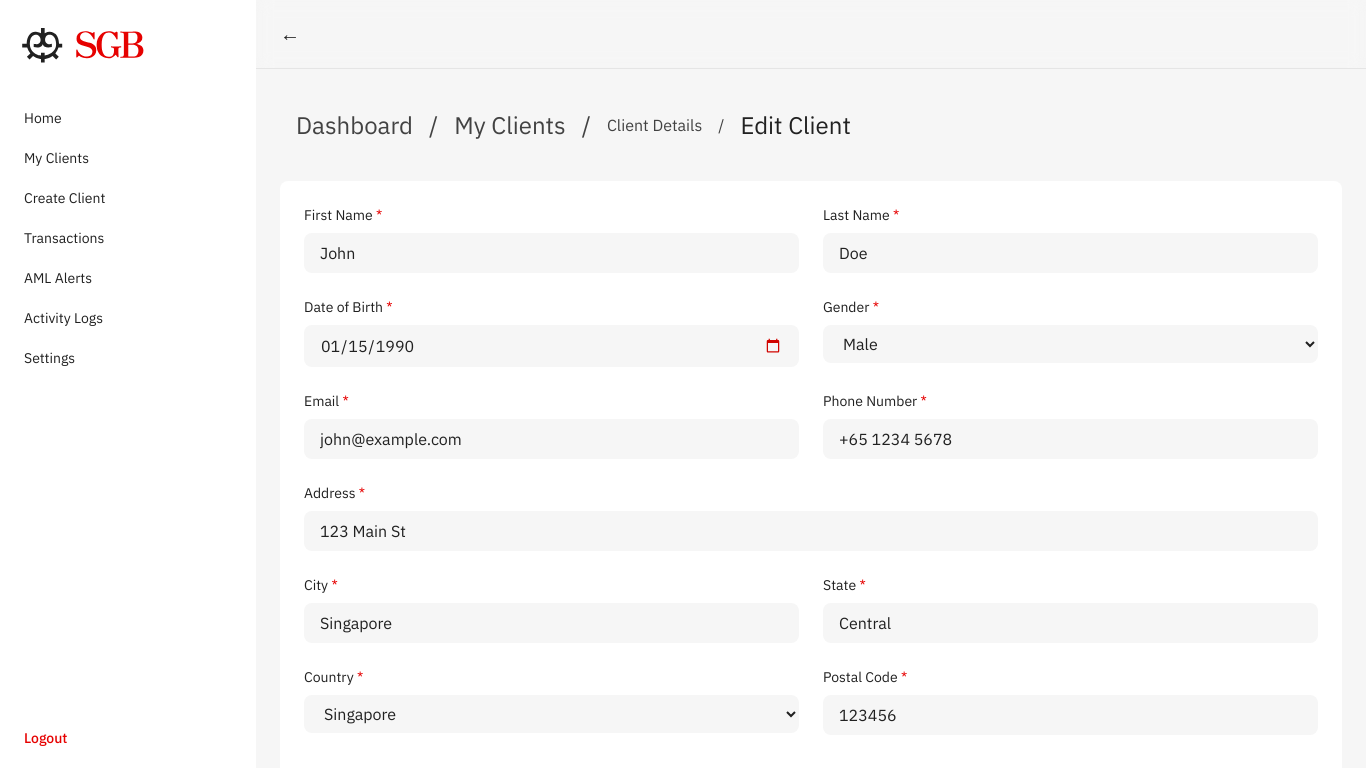
Test: UserEditClient › should show validation error when postal code does not match selected country
The width and height of the screenshot is (1366, 768).
Expected: the field showing "123456" below "Postal Code" is shown, x1=823 y1=695 x2=1318 y2=735
Select "Singapore" in the dropdown named "country" below "Country": (552, 714) x1=304 y1=695 x2=799 y2=733
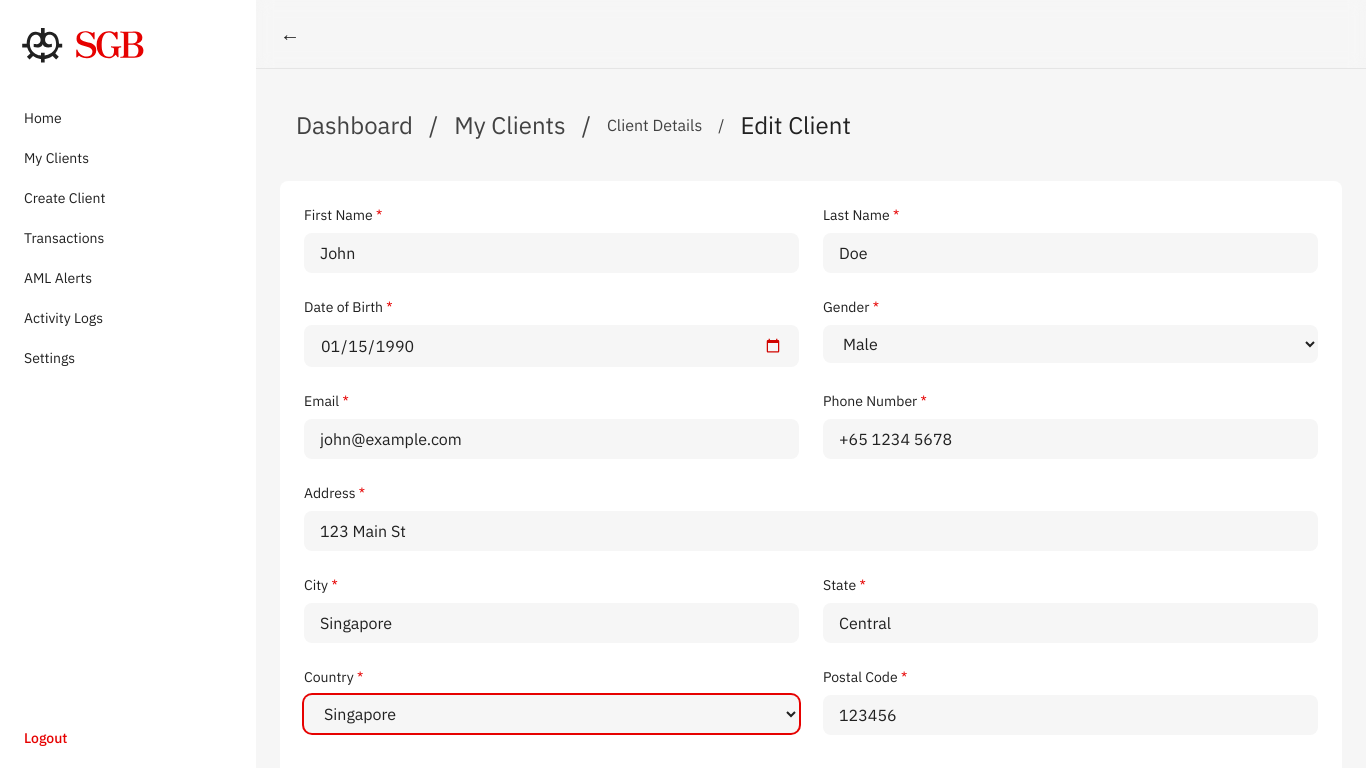
Replace the text in the field showing "123456" below "Postal Code" with "62704": (1070, 715) x1=823 y1=695 x2=1318 y2=735
(page scrolled)
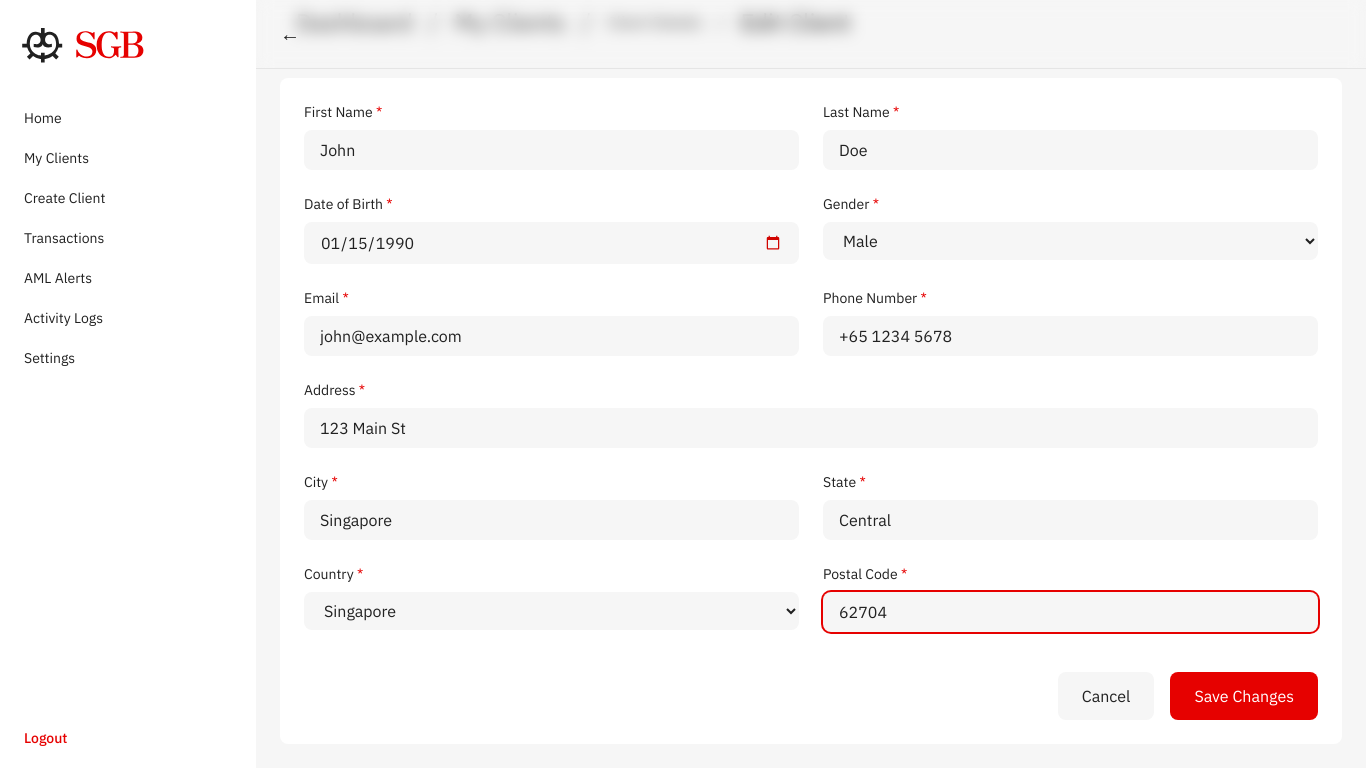
Click the button "Save Changes": (1244, 696) x1=1170 y1=672 x2=1318 y2=720
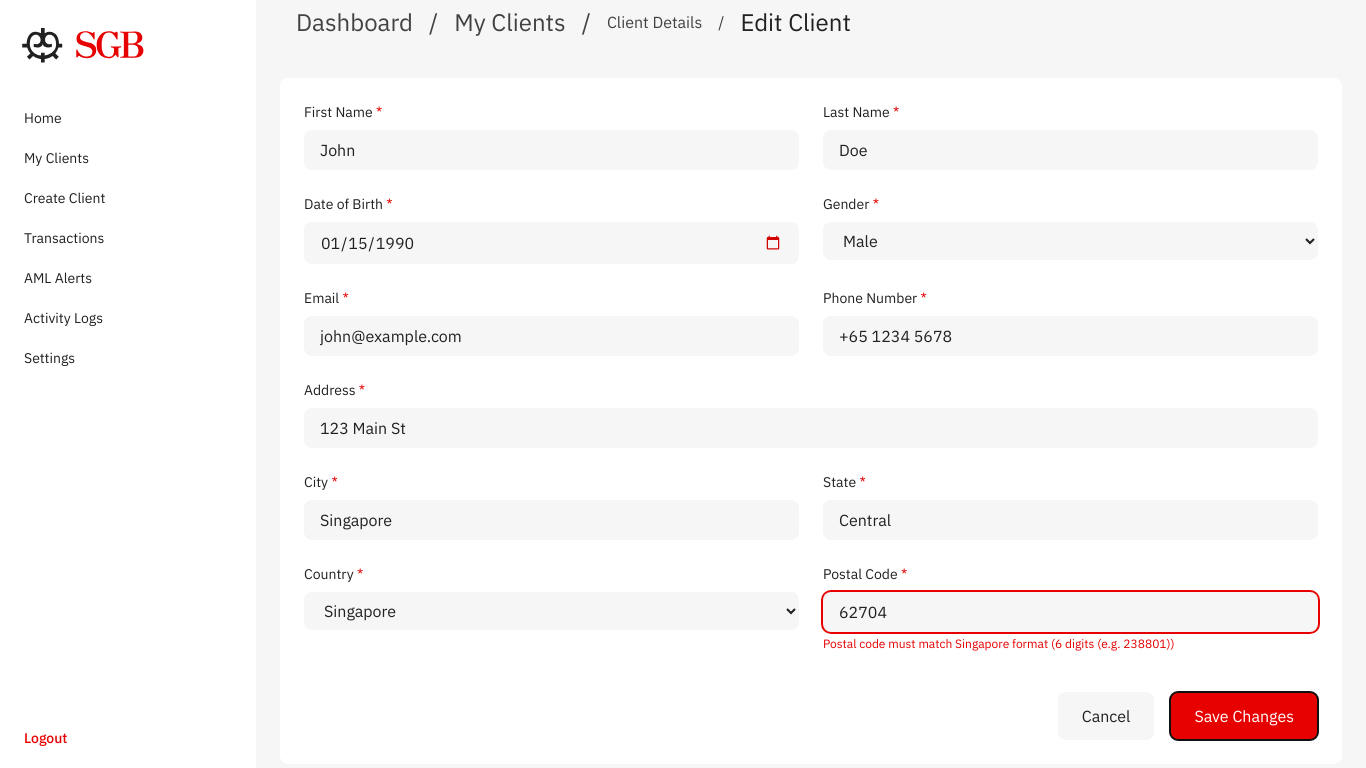
Result: the text "Postal code must match Singapore format" is shown at x1=823 y1=636 x2=1175 y2=651
